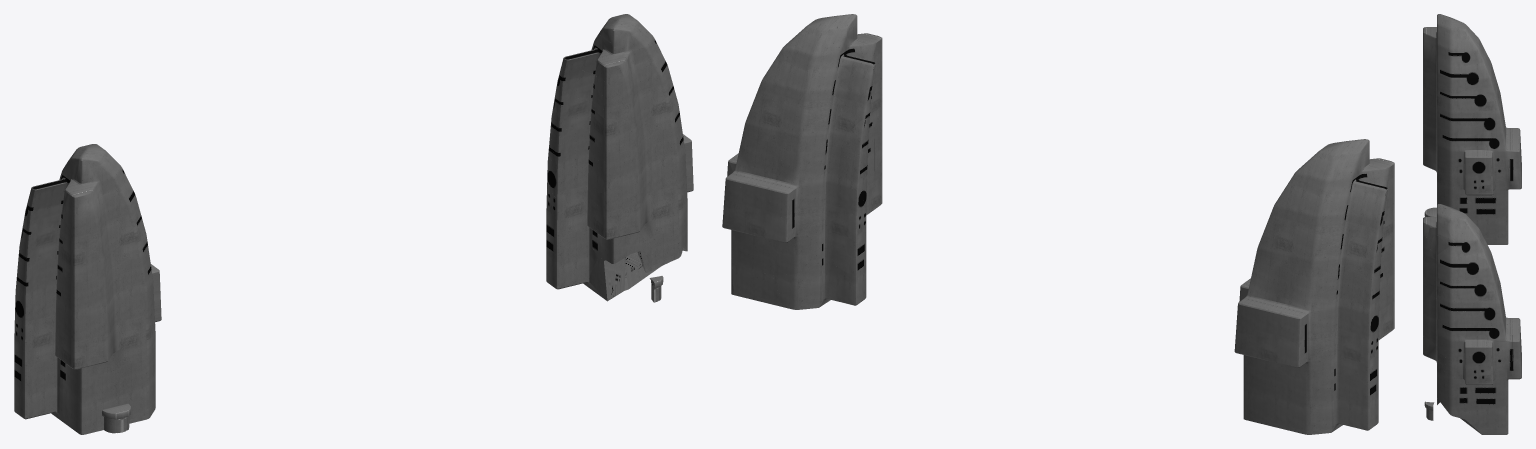
Rendered from Buildingbroken14.fbx.
3 renders of one model, left to right at view 1: azimuth 30°, elevation 25°; view 2: azimuth 150°, elevation 25°; view 3: azimuth 270°, elevation 25°, orthographic. The views are drawn at different scales.
Visible parts, largest first — view 1: Cyber Skyscraper.015, Cyber Skyscraper.015_cell.057, Cyber Skyscraper.015_cell.063, Cyber Skyscraper.015_cell.003, Cyber Skyscraper.015_cell.078, Cyber Skyscraper.015_cell.038, Cyber Skyscraper.015_cell.018, Cyber Skyscraper.015_cell.012, Cyber Skyscraper.015_cell.076, Cyber Skyscraper.015_cell.093, Cyber Skyscraper.015_cell.036, Cyber Skyscraper.015_cell.039 (+9 smaller); view 2: Cyber Skyscraper.015, Cyber Skyscraper.015_cell.052, Cyber Skyscraper.015_cell.025, Cyber Skyscraper.015_cell.069, Cyber Skyscraper.015_cell.092, Cyber Skyscraper.015_cell.008, Cyber Skyscraper.015_cell.038, Cyber Skyscraper.015_cell.081, Cyber Skyscraper.015_cell.066, Cyber Skyscraper.015_cell.050, Cyber Skyscraper.015_cell.043, Cyber Skyscraper.015_cell.098 (+8 smaller); view 3: Cyber Skyscraper.015, Cyber Skyscraper.015_cell.032, Cyber Skyscraper.015_cell.044, Cyber Skyscraper.015_cell.027, Cyber Skyscraper.015_cell.015, Cyber Skyscraper.015_cell.023, Cyber Skyscraper.015_cell.001, Cyber Skyscraper.015_cell.030, Cyber Skyscraper.015_cell.056, Cyber Skyscraper.015_cell.094, Cyber Skyscraper.015_cell.091, Cyber Skyscraper.015_cell.078 (+23 smaller).
Boxes of the visible parts, x1,y1,x2,y2 form: Cyber Skyscraper.015: (14, 144, 161, 434); Cyber Skyscraper.015_cell.057: (654, 180, 684, 247); Cyber Skyscraper.015_cell.063: (644, 91, 678, 146); Cyber Skyscraper.015_cell.003: (641, 139, 672, 201); Cyber Skyscraper.015_cell.078: (615, 90, 644, 161); Cyber Skyscraper.015_cell.038: (546, 189, 570, 253); Cyber Skyscraper.015_cell.018: (566, 186, 592, 250); Cyber Skyscraper.015_cell.012: (596, 210, 630, 263); Cyber Skyscraper.015_cell.076: (585, 256, 625, 301); Cyber Skyscraper.015_cell.093: (625, 201, 654, 253); Cyber Skyscraper.015_cell.036: (589, 108, 615, 161); Cyber Skyscraper.015_cell.039: (601, 76, 633, 120); Cyber Skyscraper.015: (1234, 139, 1394, 434); Cyber Skyscraper.015_cell.052: (754, 212, 816, 275); Cyber Skyscraper.015_cell.025: (772, 261, 844, 309); Cyber Skyscraper.015_cell.069: (770, 108, 825, 166); Cyber Skyscraper.015_cell.092: (722, 203, 763, 293); Cyber Skyscraper.015_cell.008: (740, 150, 783, 221); Cyber Skyscraper.015_cell.038: (832, 210, 866, 275); Cyber Skyscraper.015_cell.081: (740, 92, 775, 153); Cyber Skyscraper.015_cell.066: (770, 163, 801, 218); Cyber Skyscraper.015_cell.050: (800, 154, 823, 219); Cyber Skyscraper.015_cell.043: (771, 62, 808, 111); Cyber Skyscraper.015_cell.098: (822, 152, 841, 214); Cyber Skyscraper.015: (1423, 14, 1521, 244); Cyber Skyscraper.015_cell.032: (1487, 359, 1508, 434); Cyber Skyscraper.015_cell.044: (1440, 358, 1464, 419); Cyber Skyscraper.015_cell.027: (1437, 318, 1467, 360); Cyber Skyscraper.015_cell.015: (1463, 283, 1490, 324); Cyber Skyscraper.015_cell.023: (1458, 251, 1493, 288); Cyber Skyscraper.015_cell.001: (1466, 385, 1491, 434); Cyber Skyscraper.015_cell.030: (1464, 324, 1485, 365); Cyber Skyscraper.015_cell.056: (1437, 244, 1460, 284); Cyber Skyscraper.015_cell.094: (1442, 284, 1464, 320); Cyber Skyscraper.015_cell.091: (1491, 319, 1511, 362); Cyber Skyscraper.015_cell.078: (1423, 256, 1436, 300).
Size of the model in its own units: 16396 by 6500 by 2887.
